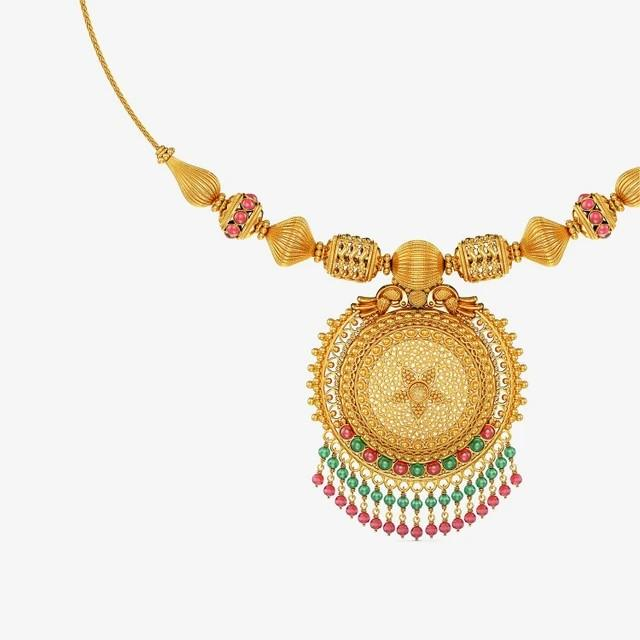missing gem: (410, 383, 427, 401), (410, 292, 425, 306)
